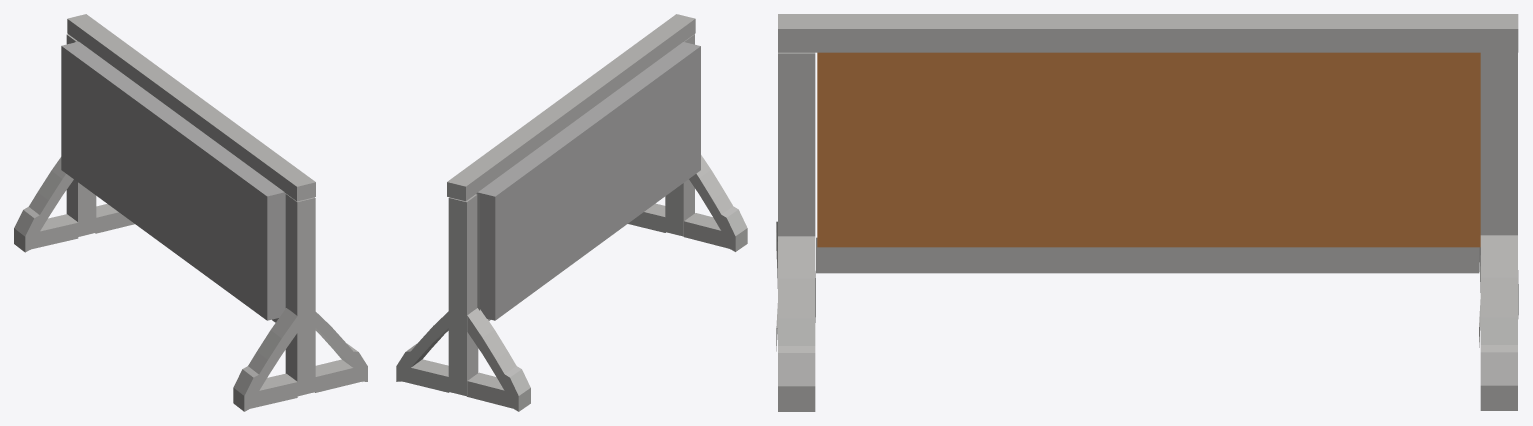
The model's file is BulletinBoardVisual.fbx.
The picture shows the model from 3 angles, left to right: view 1: azimuth 30°, elevation 25°; view 2: azimuth 150°, elevation 25°; view 3: azimuth 270°, elevation 25°; orthographic projection. The views are drawn at different scales.
Parts seen in each view (by area): view 1: main board, STAND; view 2: main board, STAND; view 3: main board, STAND.
Boxes of the visible parts, x1=… form: main board: x1=61, y1=41, x2=285, y2=320; STAND: x1=14, y1=14, x2=367, y2=411; main board: x1=477, y1=42, x2=700, y2=320; STAND: x1=396, y1=14, x2=747, y2=411; main board: x1=817, y1=52, x2=1480, y2=247; STAND: x1=776, y1=14, x2=1518, y2=411.
Bounding box in the file's own units: 141 × 230 × 453.
